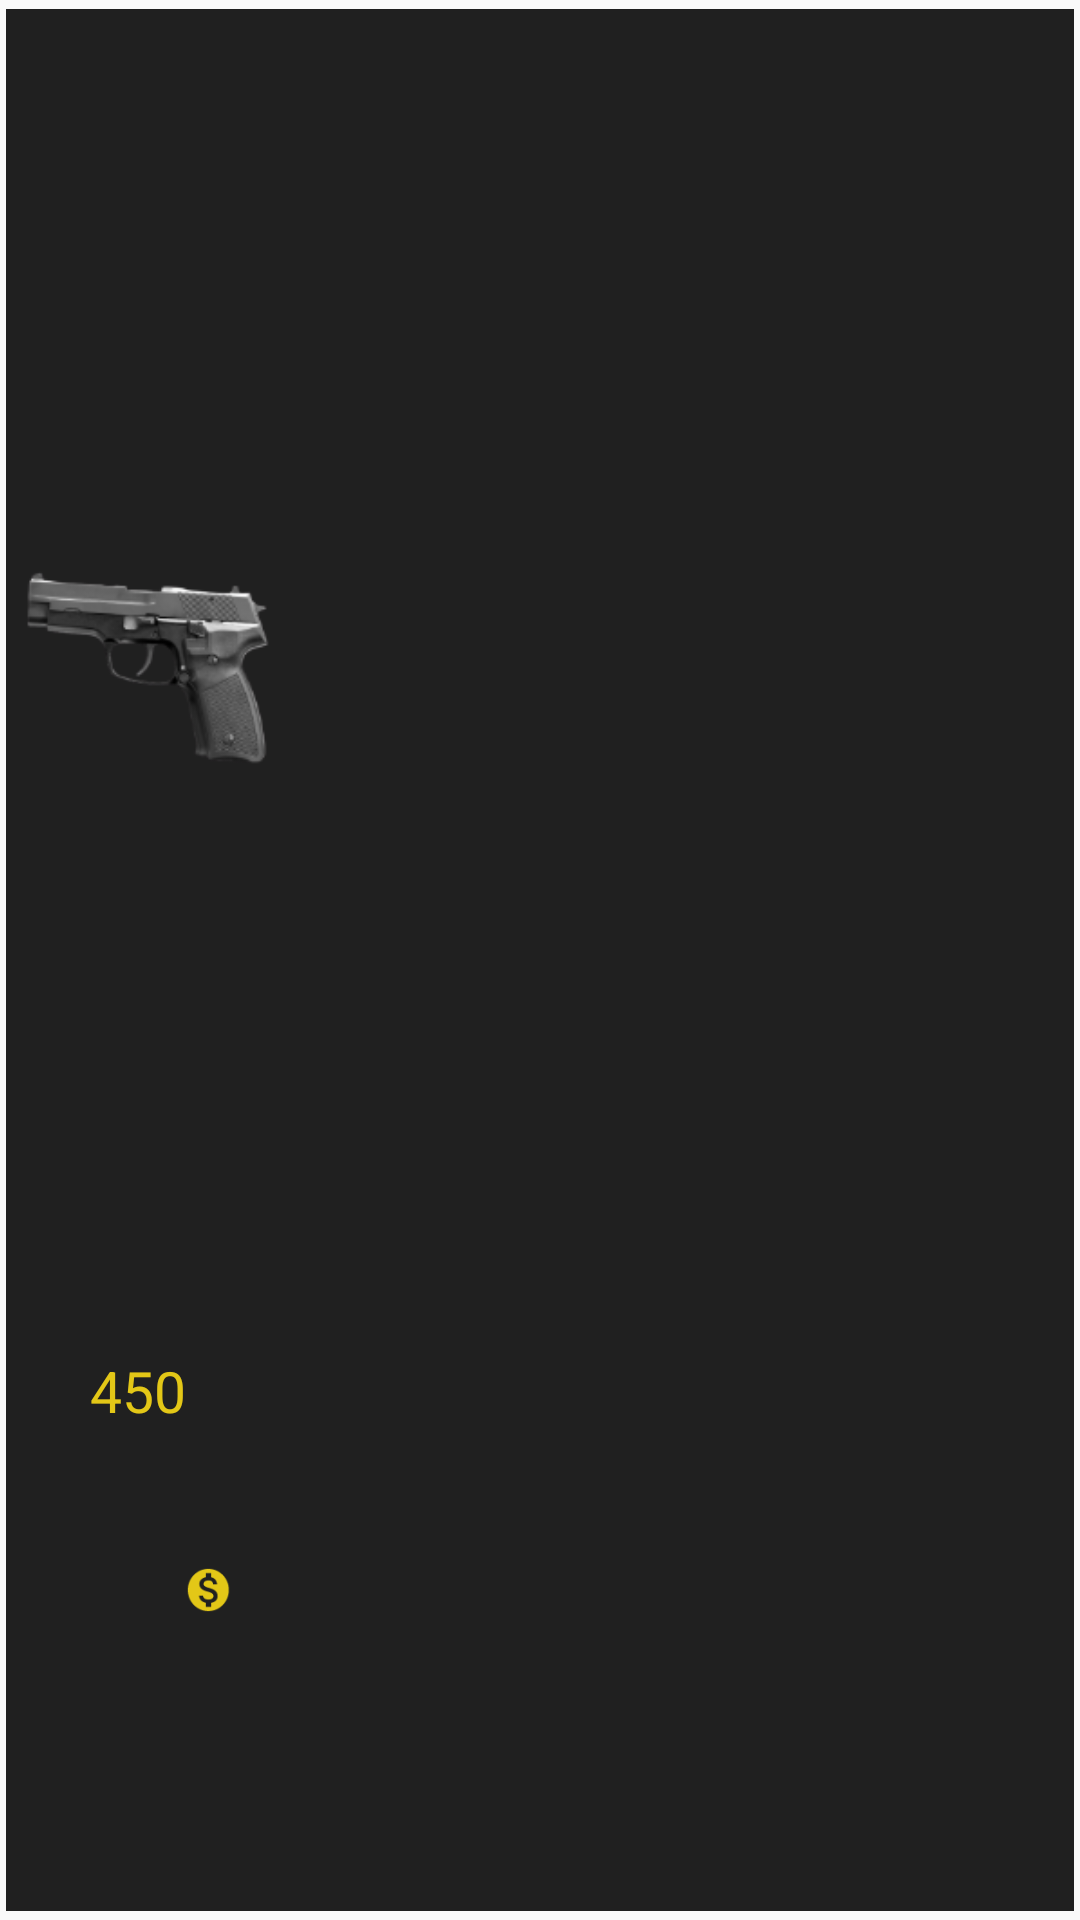

Locate icon controls on the screen. Image size 1080 x 1920, boxes as bbox=[x1, y1, x2, y2].
monetization on: bbox=[187, 1569, 229, 1611]
pistol: bbox=[28, 573, 268, 762]
